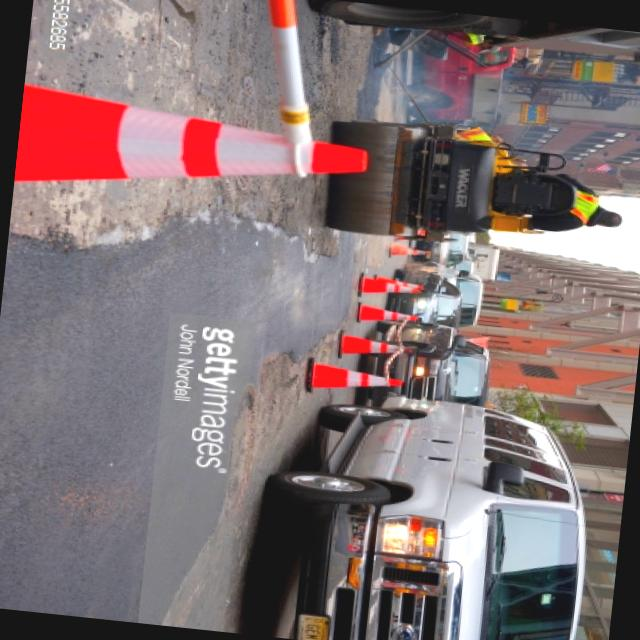cone: (11, 71, 376, 227), (304, 358, 406, 402), (338, 330, 411, 366), (358, 274, 422, 302), (359, 302, 421, 328)
